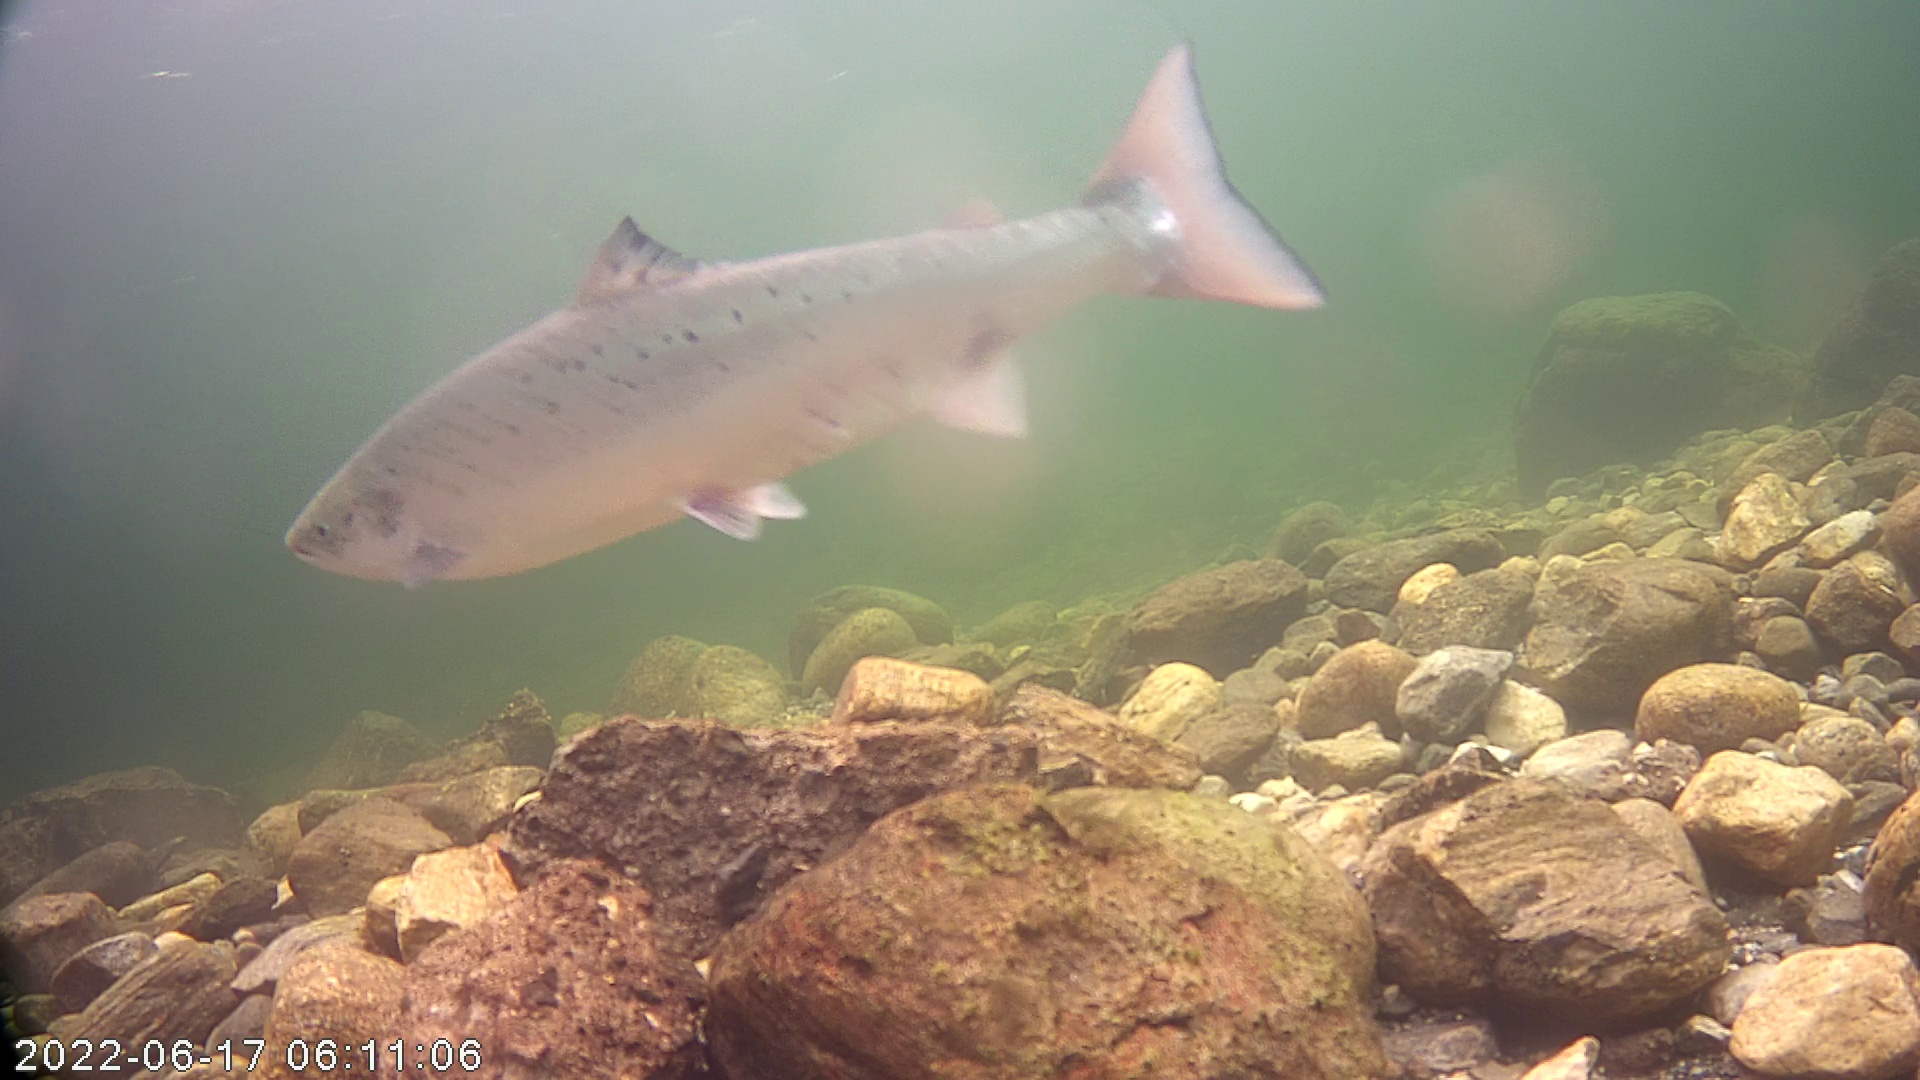salmon: (280, 36, 1332, 589)
